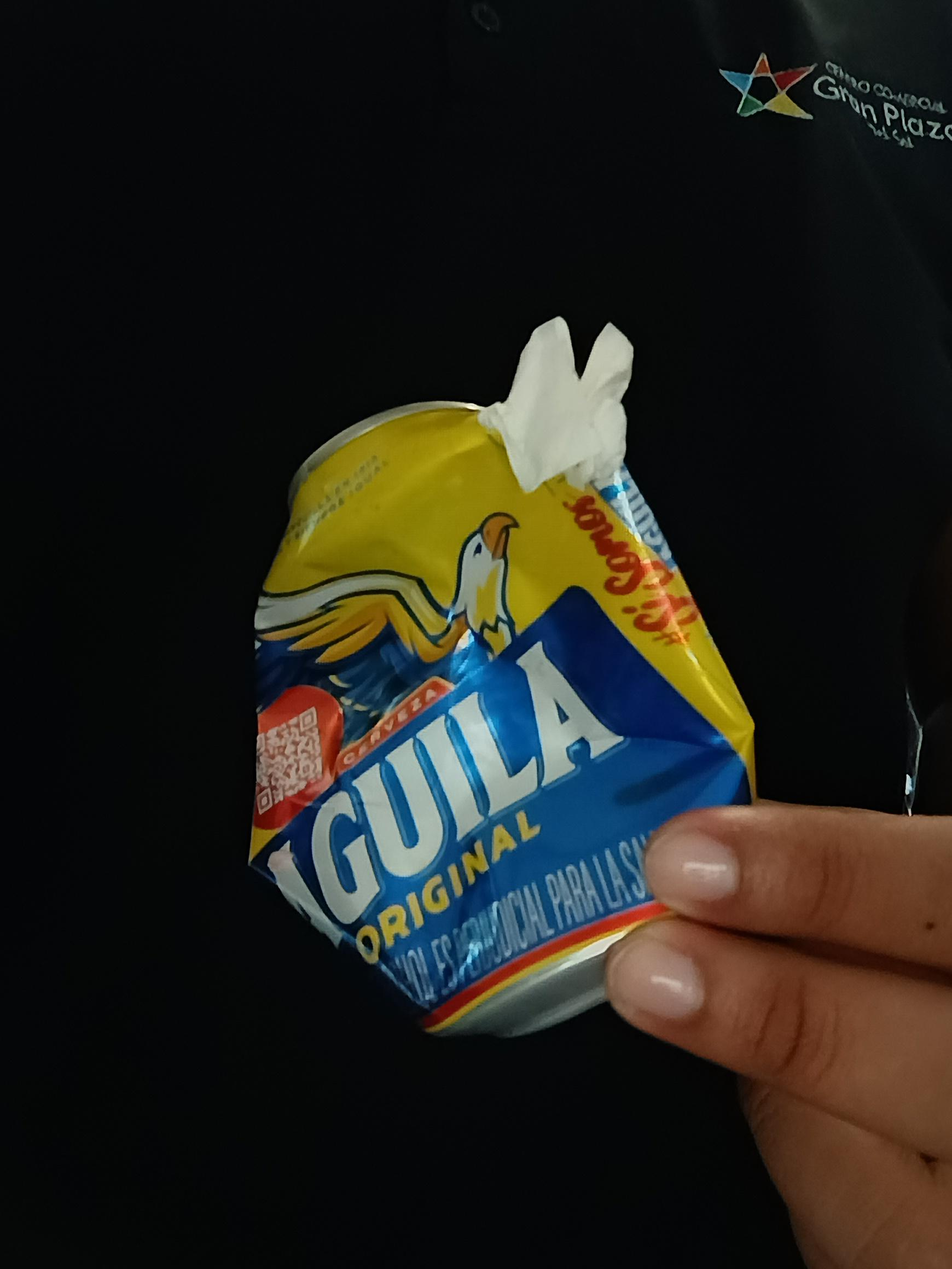Metal: (253, 404, 756, 1042)
